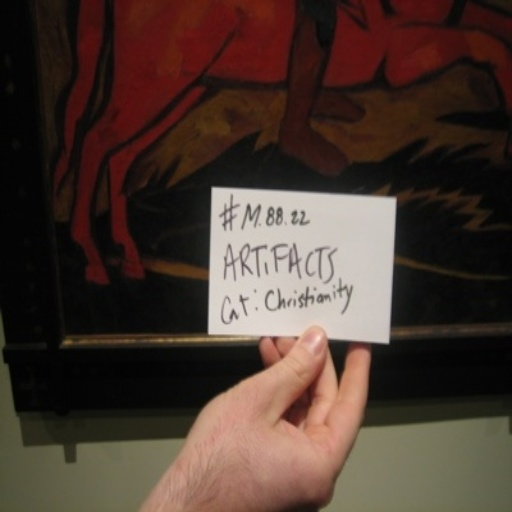hand: (143, 325, 376, 500)
